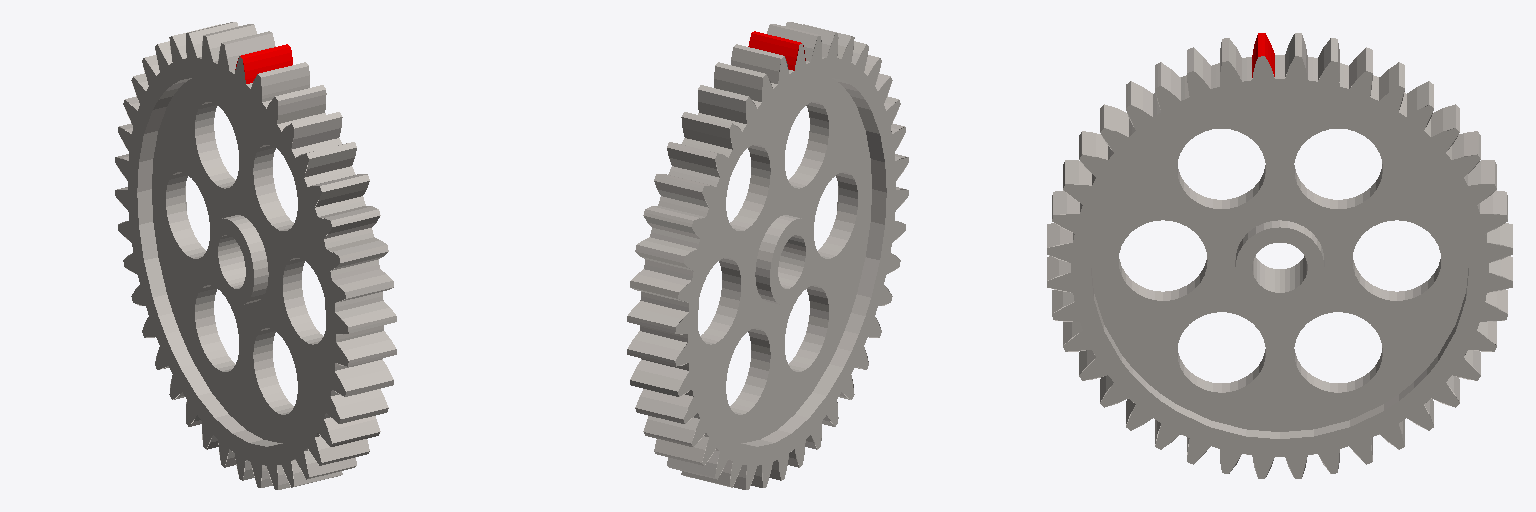
The model's file is gear.obj.
The picture shows the model from 3 angles: view 1: azimuth 30°, elevation 25°; view 2: azimuth 150°, elevation 25°; view 3: azimuth 270°, elevation 25°; orthographic projection.
Visible parts, largest first — view 1: NONE_DC_Shell; view 2: NONE_DC_Shell; view 3: NONE_DC_Shell.
Boxes of the visible parts, x1,y1,x2,y2 form: NONE_DC_Shell: [115, 22, 396, 489]; NONE_DC_Shell: [627, 22, 908, 489]; NONE_DC_Shell: [1047, 33, 1512, 478].
Size of the model in its own units: 5 by 41.92 by 41.92.